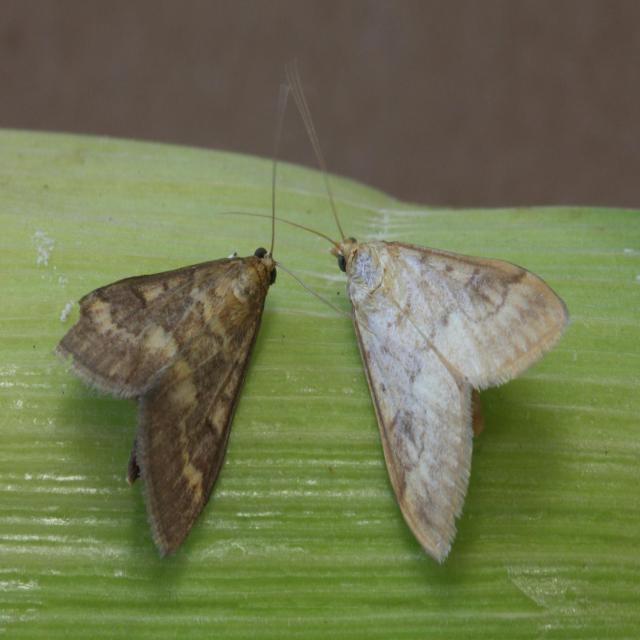cornborer-Adult-: (326, 218, 579, 564), (60, 235, 291, 566)
